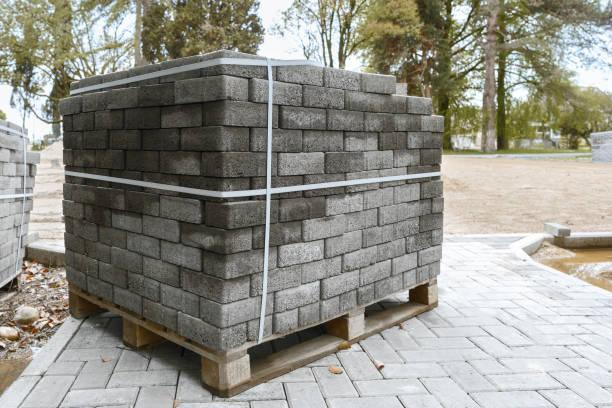Bricks: (176, 310, 247, 352), (200, 292, 274, 328), (181, 267, 250, 304), (202, 247, 277, 280), (181, 221, 251, 256), (203, 101, 278, 131), (173, 75, 247, 104), (204, 200, 277, 229), (201, 152, 274, 177), (180, 128, 248, 153), (361, 218, 421, 246), (252, 263, 300, 297), (249, 220, 302, 250), (159, 281, 199, 319), (274, 281, 319, 313), (181, 176, 251, 196), (278, 239, 324, 269), (159, 195, 203, 225), (321, 267, 361, 300), (251, 80, 301, 106), (281, 105, 329, 132), (300, 254, 343, 284), (142, 255, 181, 288), (250, 128, 303, 152), (160, 241, 201, 272), (144, 295, 178, 332), (256, 179, 305, 204), (352, 92, 407, 114), (302, 85, 346, 112), (141, 215, 179, 245), (273, 65, 324, 87), (161, 103, 204, 129), (160, 149, 201, 175), (322, 231, 360, 259), (278, 153, 324, 176), (279, 197, 323, 221), (112, 285, 144, 318), (109, 244, 144, 274), (127, 271, 159, 302), (326, 189, 364, 215), (306, 171, 347, 195), (334, 243, 375, 267), (347, 167, 383, 194), (127, 231, 160, 259), (303, 130, 345, 152), (324, 67, 360, 92), (326, 110, 365, 133), (361, 259, 394, 286), (136, 81, 170, 107), (144, 128, 184, 150), (305, 219, 350, 238), (98, 259, 127, 288), (66, 249, 97, 276), (326, 153, 367, 173), (382, 200, 419, 222), (129, 192, 160, 217), (406, 162, 444, 182), (124, 108, 160, 129), (97, 225, 128, 249), (363, 112, 394, 136), (347, 131, 383, 151), (350, 209, 380, 232), (363, 150, 394, 172), (124, 150, 158, 170), (365, 188, 397, 209), (389, 252, 419, 274), (83, 278, 109, 303), (376, 237, 403, 261), (364, 74, 398, 93), (413, 243, 441, 266), (409, 134, 442, 153), (381, 132, 410, 153), (406, 232, 432, 255), (80, 130, 113, 148), (96, 150, 125, 169), (112, 133, 145, 149), (95, 189, 128, 205), (143, 173, 178, 188), (394, 115, 422, 133), (115, 209, 141, 228), (403, 96, 430, 114), (382, 168, 406, 188), (393, 149, 422, 165), (274, 313, 299, 330), (421, 211, 443, 230), (72, 183, 98, 199), (340, 293, 360, 313), (420, 113, 442, 131), (66, 230, 88, 248), (76, 217, 99, 234), (112, 170, 139, 184), (108, 91, 137, 104), (67, 269, 83, 292), (86, 205, 112, 219), (88, 237, 107, 256), (320, 302, 341, 319), (60, 199, 81, 216), (253, 318, 270, 338), (297, 307, 317, 324), (96, 114, 122, 127), (422, 182, 443, 198), (75, 153, 97, 168), (83, 94, 108, 107), (430, 196, 443, 216), (428, 230, 443, 247), (359, 284, 373, 302), (72, 115, 93, 126), (421, 148, 440, 159), (60, 102, 80, 111), (430, 264, 441, 280), (377, 284, 389, 298), (404, 273, 415, 288), (393, 276, 402, 292), (421, 268, 427, 278)
